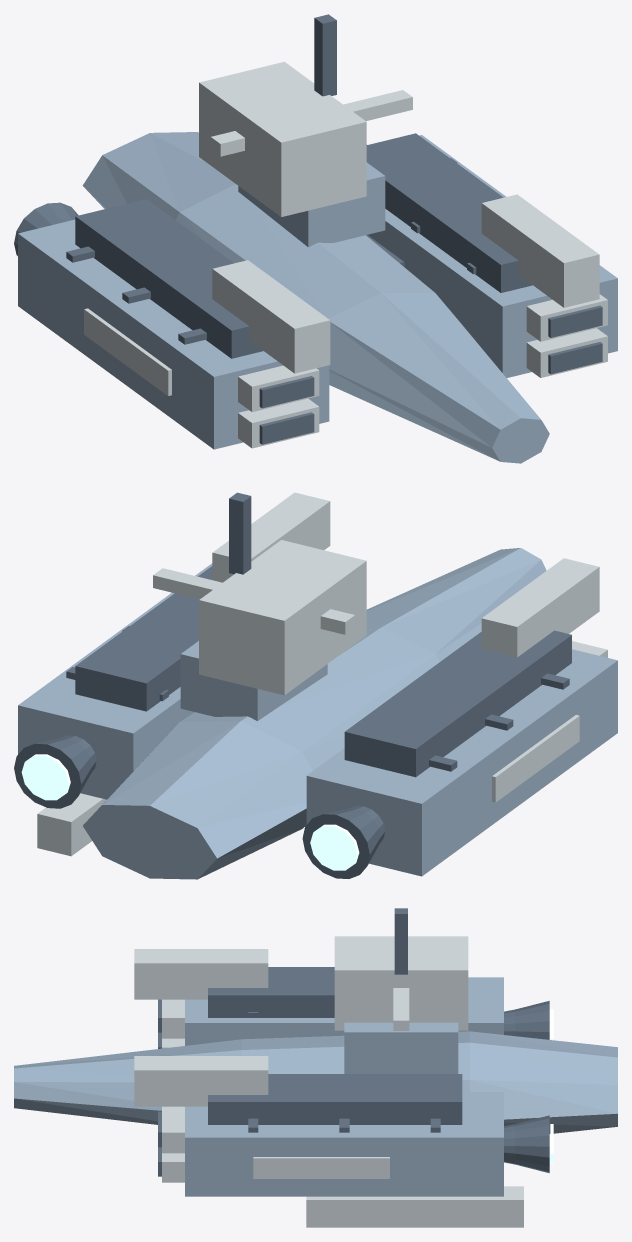
The picture shows the model from 3 angles, top to bottom: view 1: azimuth 30°, elevation 25°; view 2: azimuth 150°, elevation 25°; view 3: azimuth 270°, elevation 25°; orthographic projection. The views are drawn at different scales.
Size of the model in its own units: 11.56 by 8.77 by 18.05.
